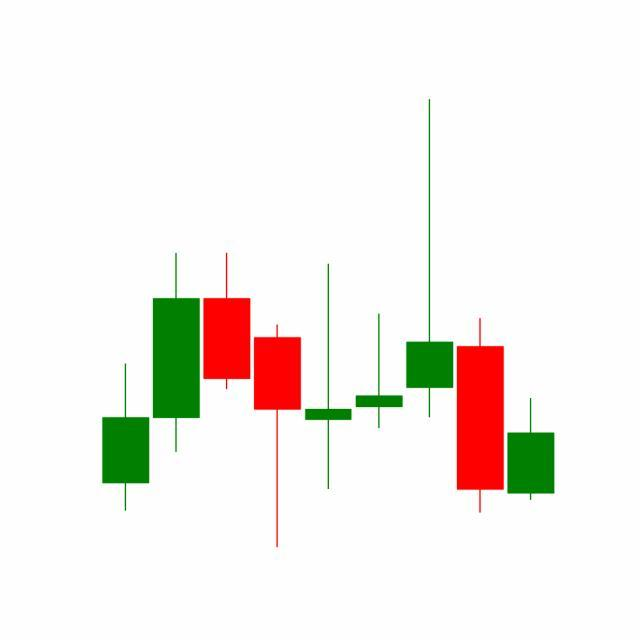Rising-Falling Three Methods: (252, 99, 506, 549)
